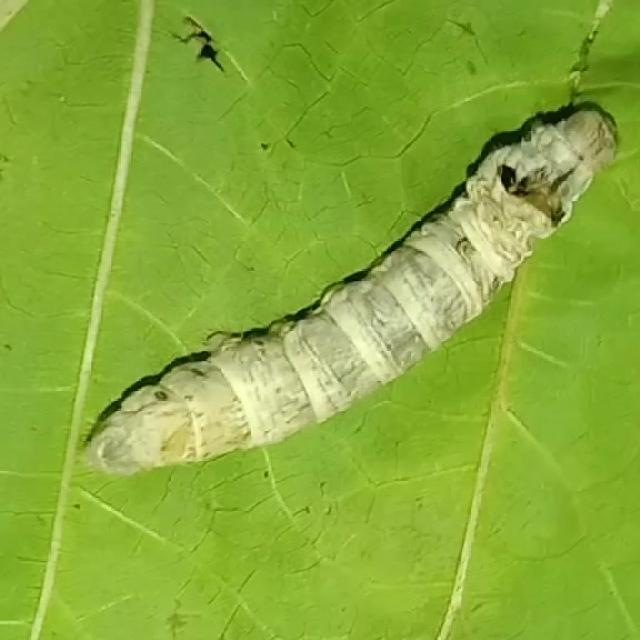Grasserie: (84, 83, 621, 474)
